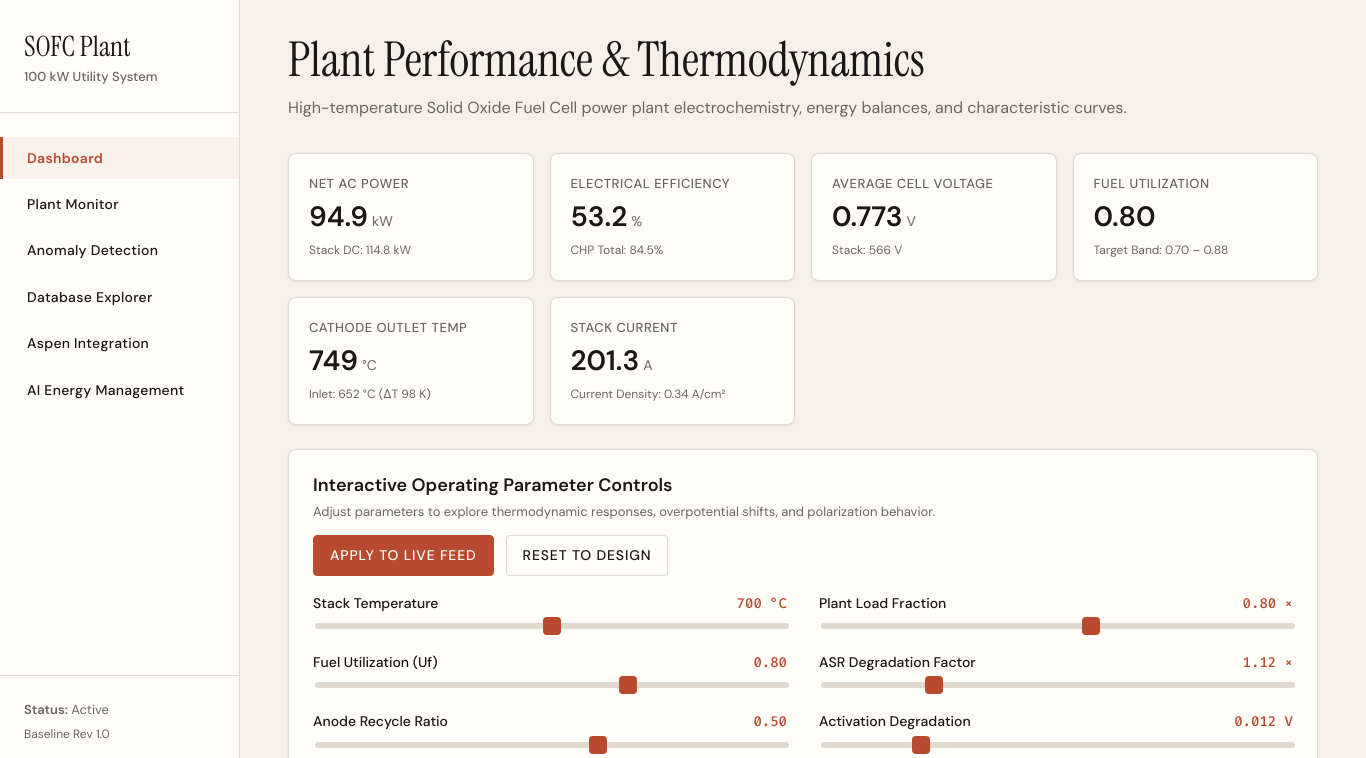
Test: SOFC Monitor Routed App › navigates to Database Explorer view
The image size is (1366, 758).
Click the link "Database Explorer".
click(90, 297)  # box [27, 288, 153, 306]
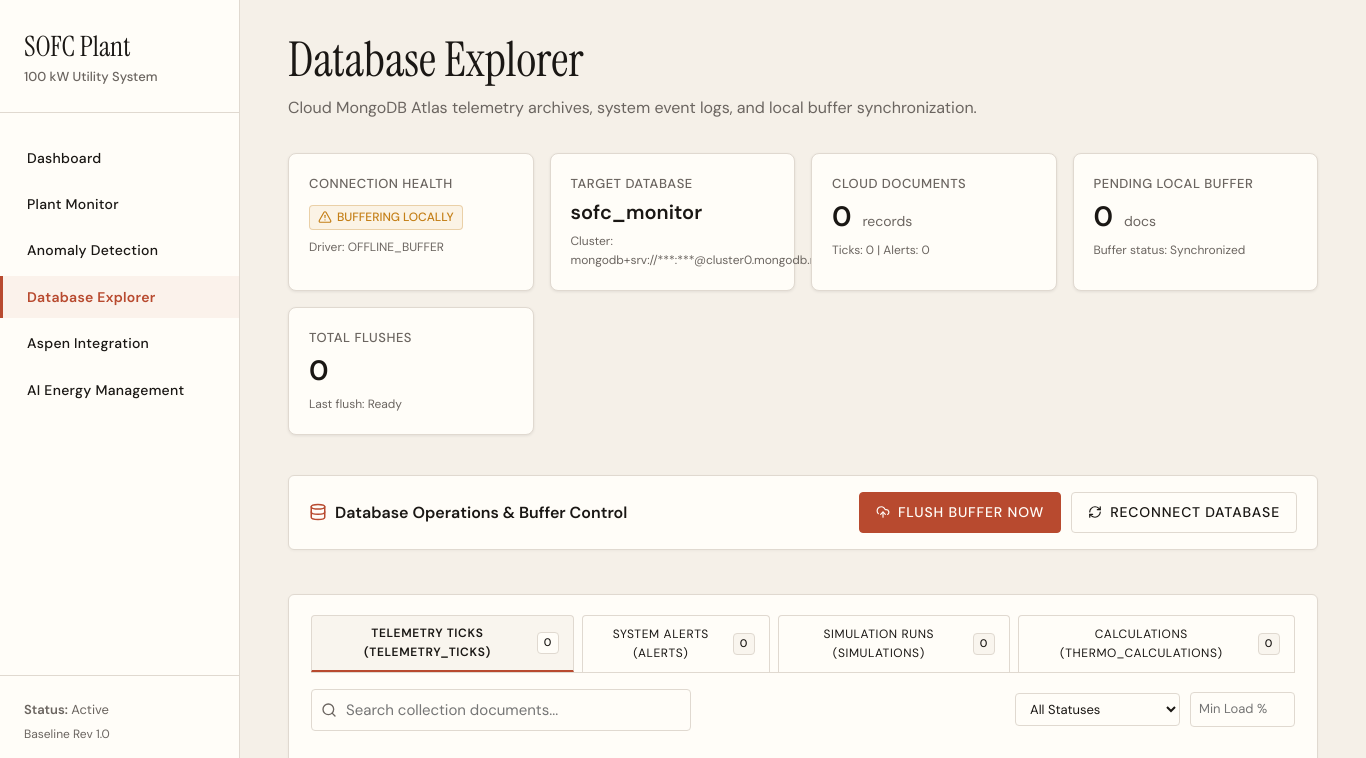
Expected: the heading "Database Explorer" is shown, [288, 28, 584, 91]
